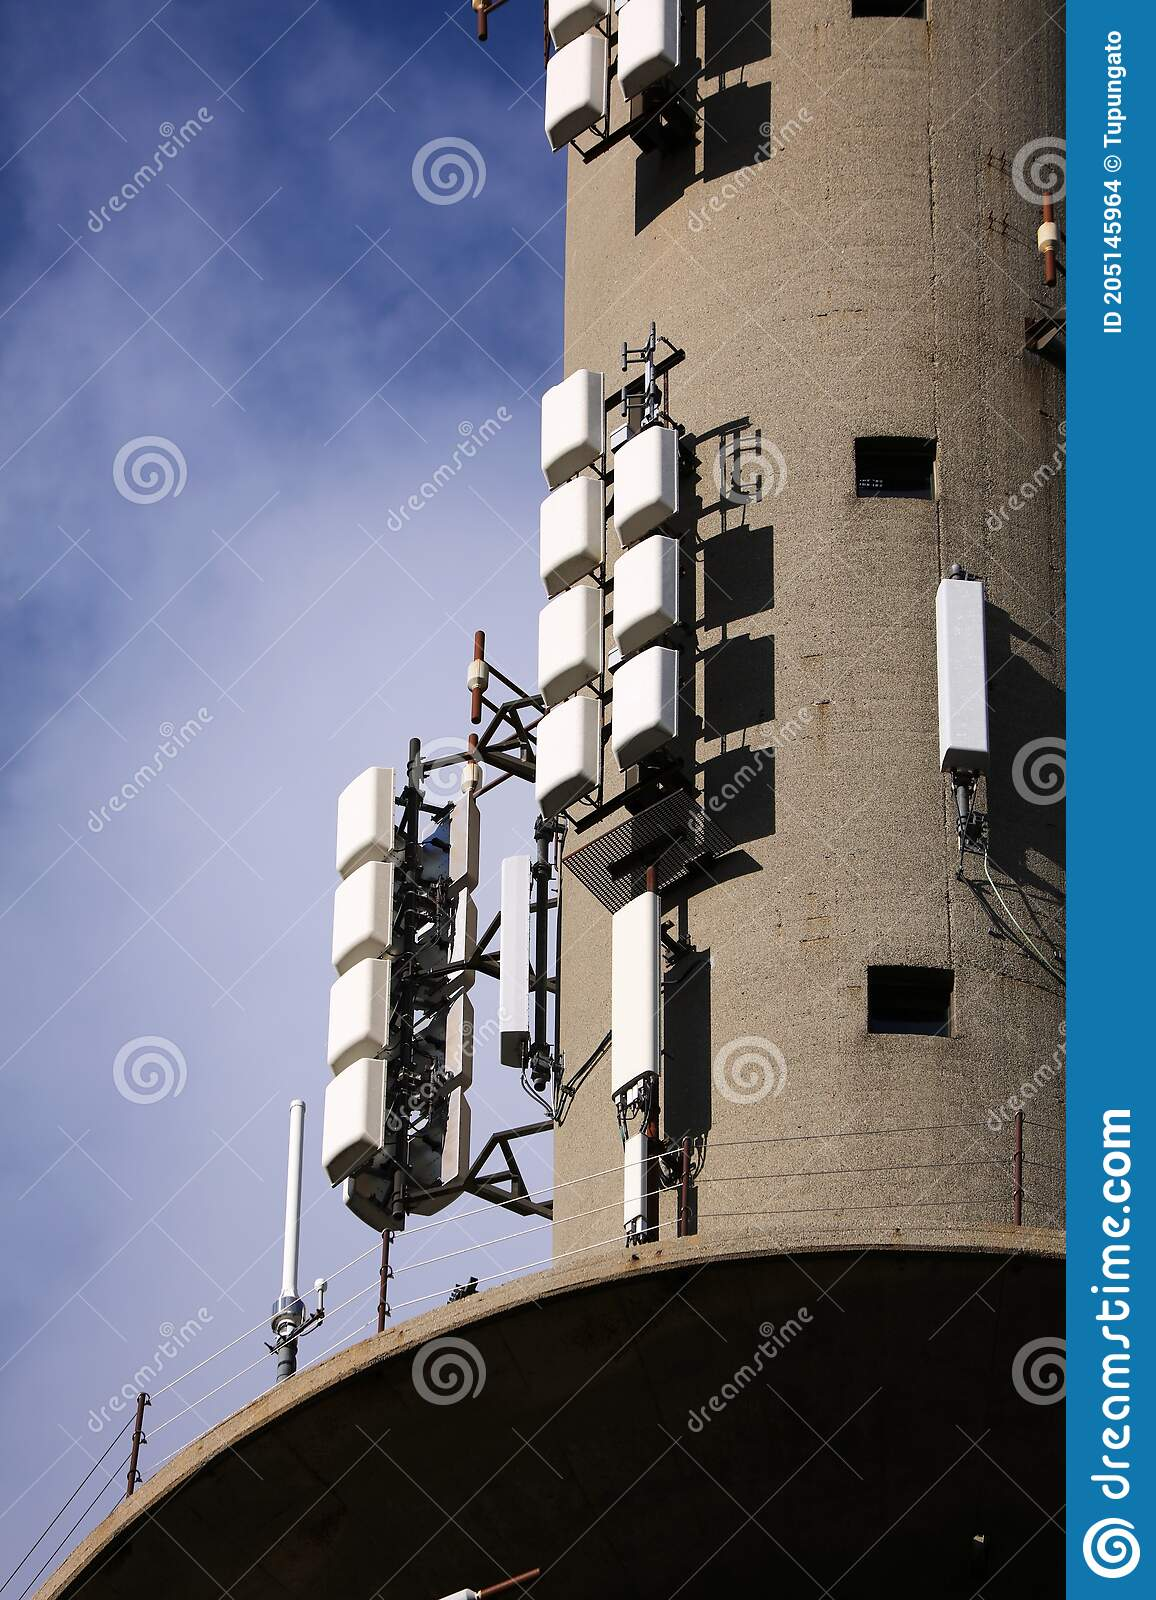sa: (937, 525, 995, 798), (494, 847, 555, 1065)
